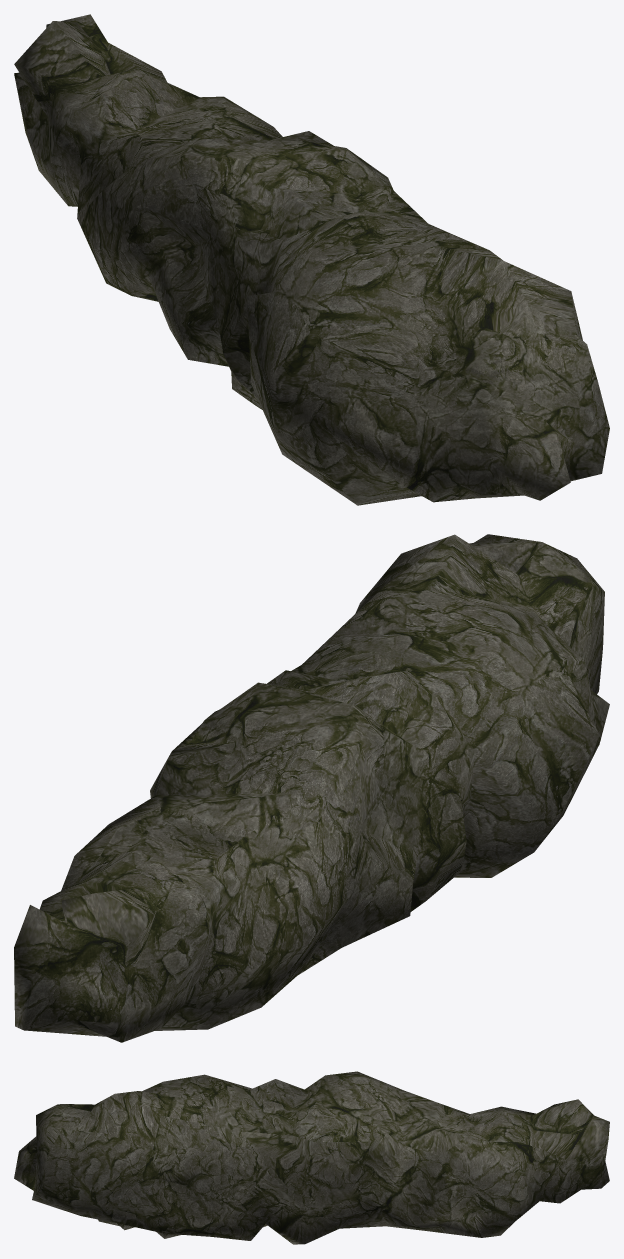
The model's file is TI_Cliff_01_e_LOD_02.fbx.
The picture shows the model from 3 angles, top to bottom: view 1: azimuth 30°, elevation 25°; view 2: azimuth 150°, elevation 25°; view 3: azimuth 270°, elevation 25°; orthographic projection. The views are drawn at different scales.
Visible parts, largest first — view 1: TI_Cliff_01_e_LOD_02; view 2: TI_Cliff_01_e_LOD_02; view 3: TI_Cliff_01_e_LOD_02.
Part boxes in pixels (left/top/right/bottom): TI_Cliff_01_e_LOD_02: left=14, top=14, right=609, bottom=505; TI_Cliff_01_e_LOD_02: left=14, top=534, right=609, bottom=1042; TI_Cliff_01_e_LOD_02: left=14, top=1071, right=609, bottom=1244.
Size of the model in its own units: 5.13 by 4.59 by 16.96.
